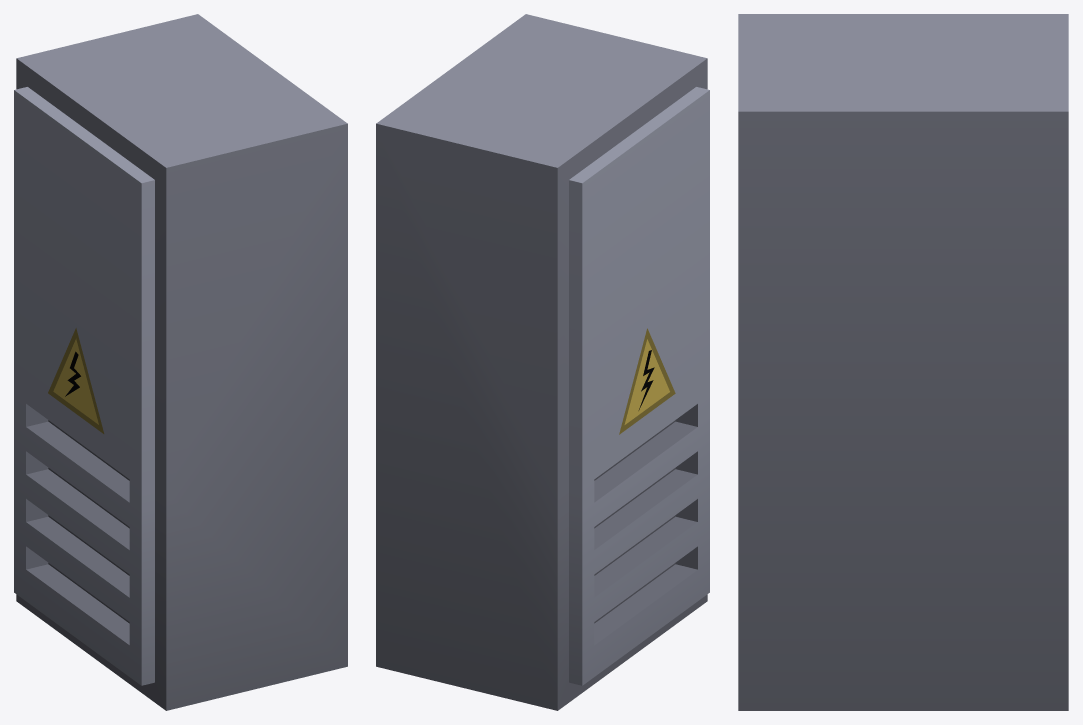
Rendered from ElectricalBox_1.fbx.
3 renders of one model, left to right at view 1: azimuth 30°, elevation 25°; view 2: azimuth 150°, elevation 25°; view 3: azimuth 270°, elevation 25°, orthographic. The views are drawn at different scales.
Visible parts, largest first — view 1: Plane.927; view 2: Plane.927; view 3: Plane.927.
Part boxes in pixels (box(x1,y1,x2,y2)): Plane.927: box(14, 14, 347, 710); Plane.927: box(376, 14, 709, 710); Plane.927: box(738, 14, 1068, 710).
Bounding box in the file's own units: 76.17 × 200 × 100.
